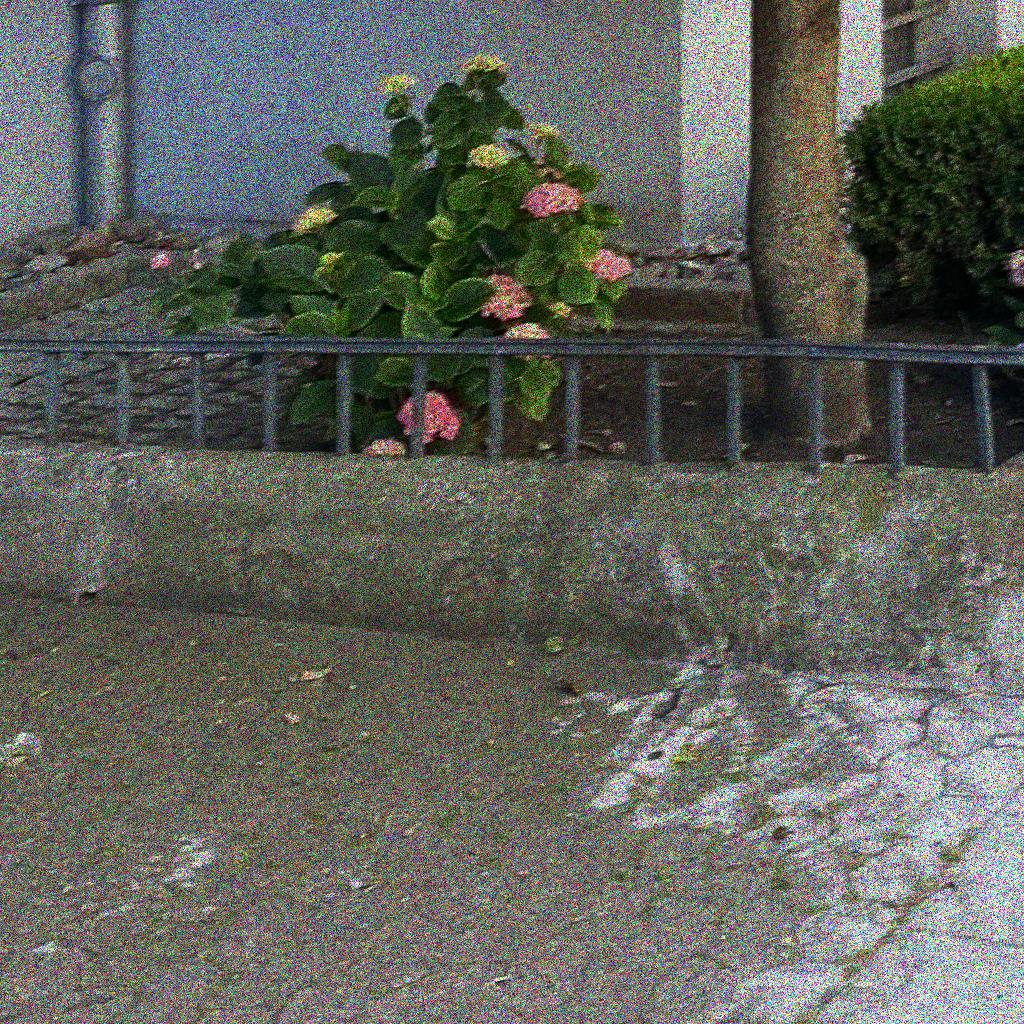tree: (744, 1, 873, 450)
